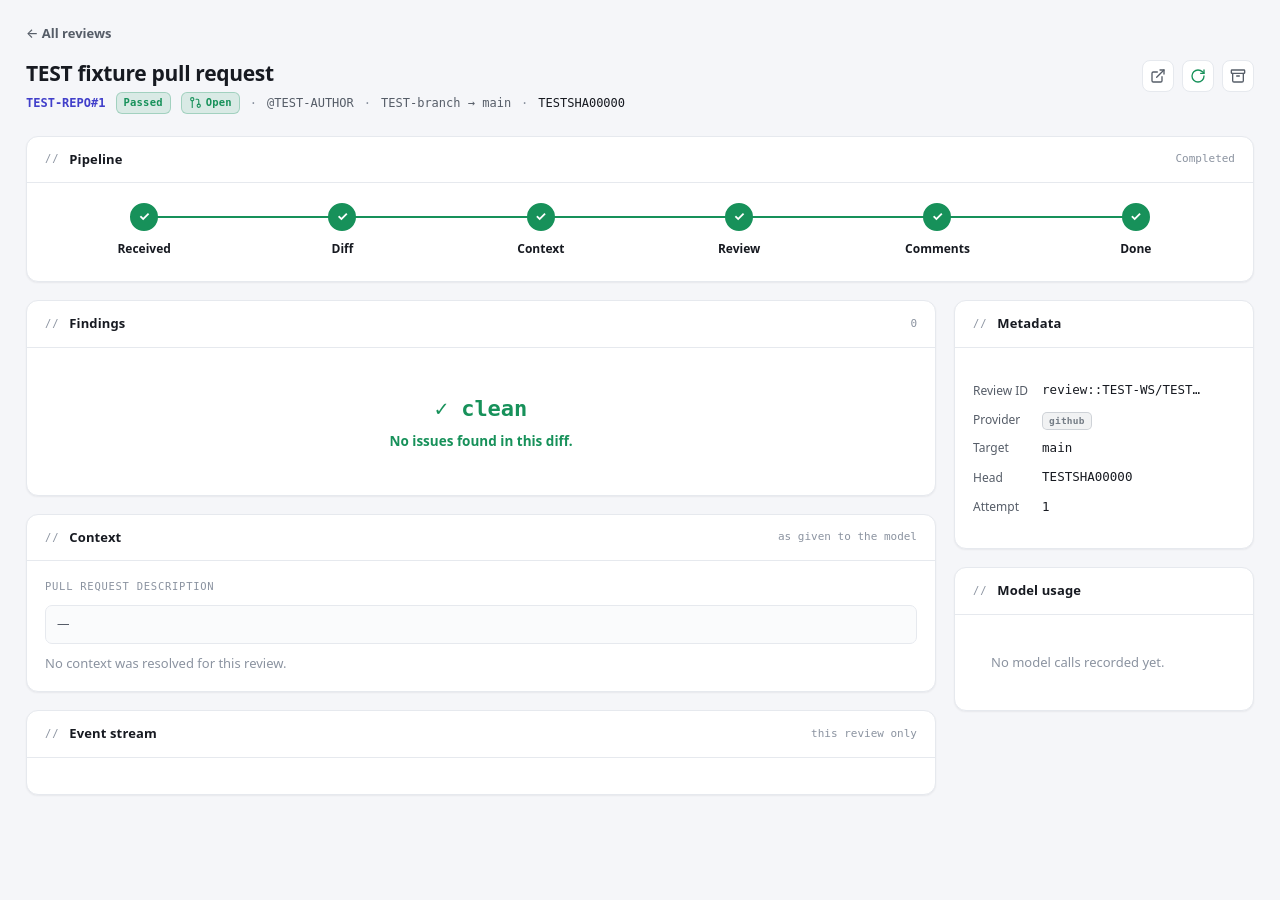
Test: ReviewDetail — archive and unarchive › does not promise to destroy anything
This screenshot has width=1280, height=900.
Click the button named "archive review": (1238, 76) x1=1222 y1=60 x2=1254 y2=92
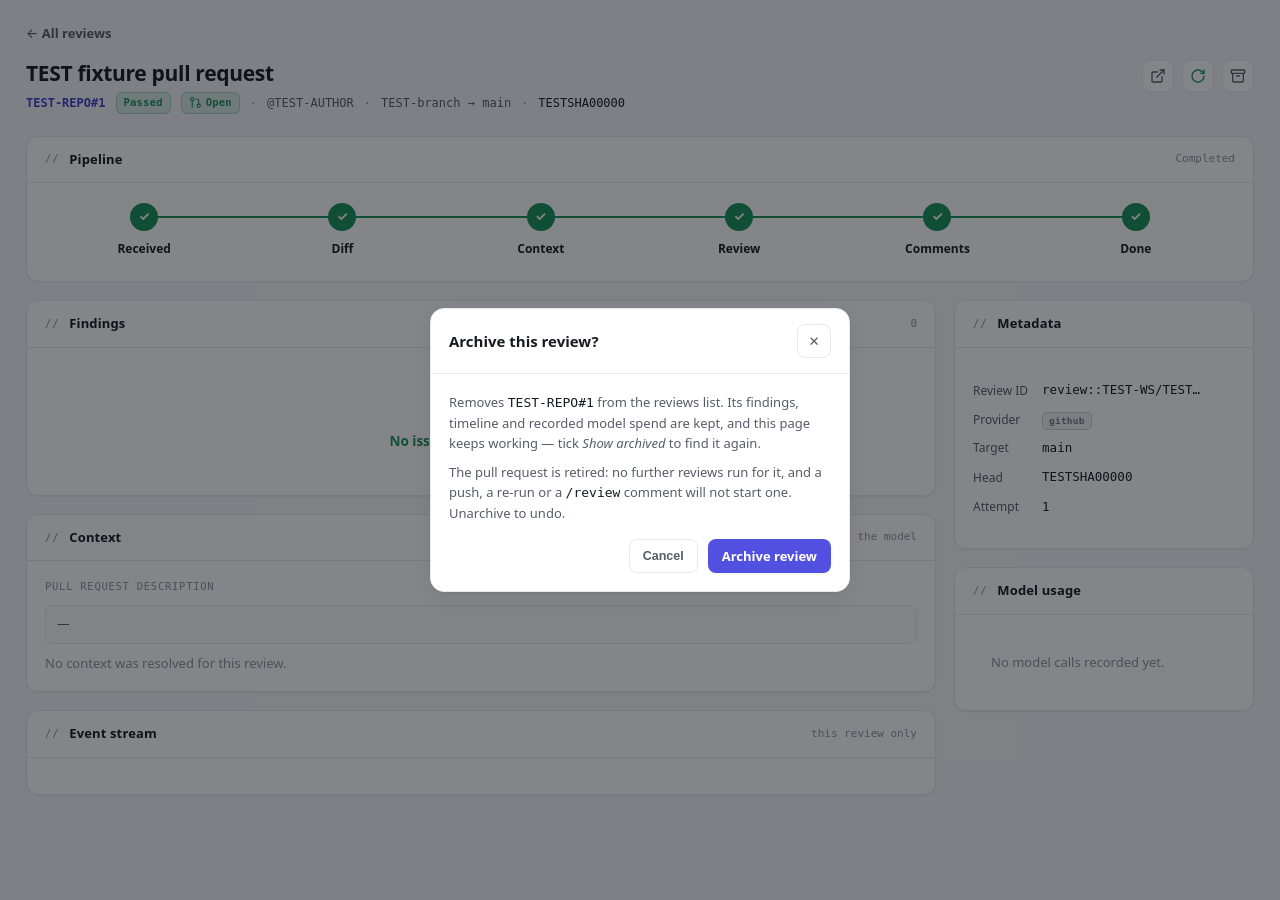
Expected: the text "no further reviews" is shown, x1=449 y1=462 x2=822 y2=501
